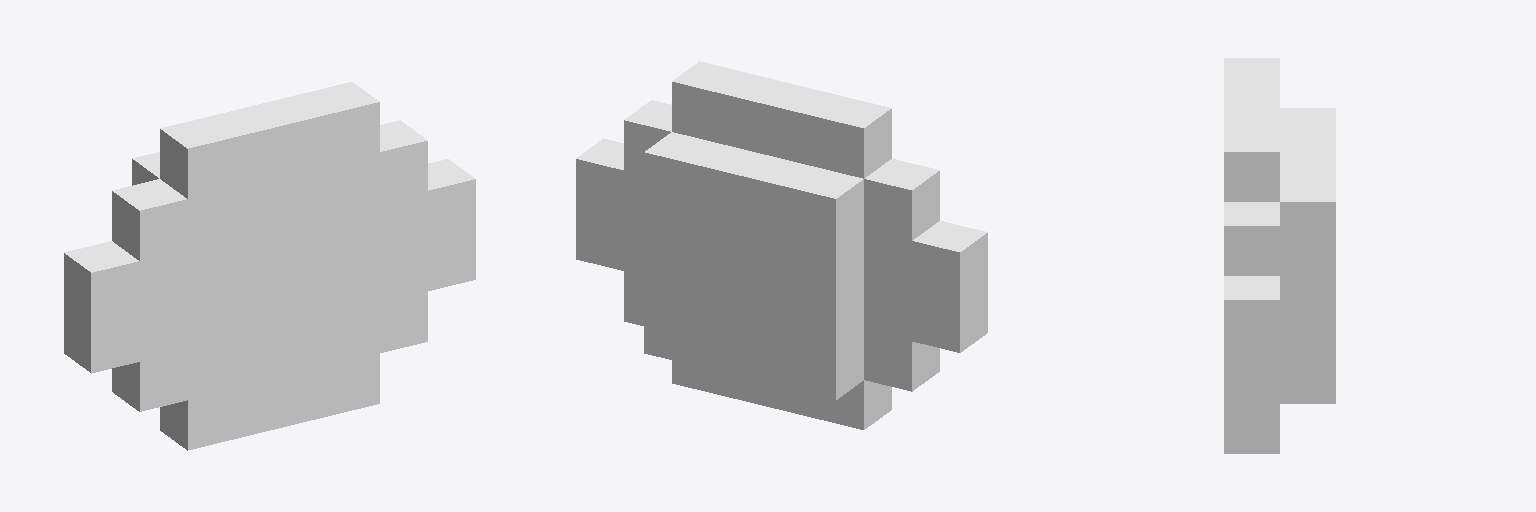
Rendered from talcabe.obj.
The picture shows the model from 3 angles: view 1: azimuth 30°, elevation 25°; view 2: azimuth 150°, elevation 25°; view 3: azimuth 270°, elevation 25°; orthographic projection.
Parts seen in each view (by area): view 1: Taladropart.014; view 2: Taladropart.014; view 3: Taladropart.014.
Boxes of the visible parts, <box> form: Taladropart.014: <box>64,82,475,450</box>; Taladropart.014: <box>576,61,987,429</box>; Taladropart.014: <box>1224,58,1335,453</box>.
Size of the model in its own units: 0.8 by 0.6 by 0.2.